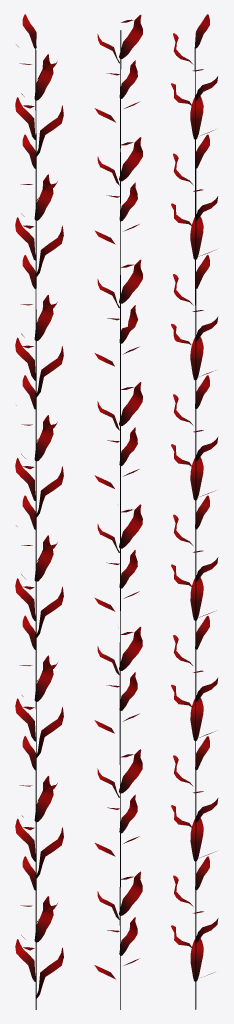
3 views of the same model, side by side, from view 1: azimuth 30°, elevation 25°; view 2: azimuth 210°, elevation 25°; view 3: azimuth 330°, elevation 25° (orthographic).
Visible parts, largest first — view 1: KELP_HP_001; view 2: KELP_HP_001; view 3: KELP_HP_001.
Part boxes in pixels (bbox=[...]): KELP_HP_001: bbox=[15, 14, 63, 1009]; KELP_HP_001: bbox=[94, 15, 142, 1009]; KELP_HP_001: bbox=[171, 14, 218, 1009].
Size of the model in its own units: 0.9679 by 19.85 by 0.7767.
